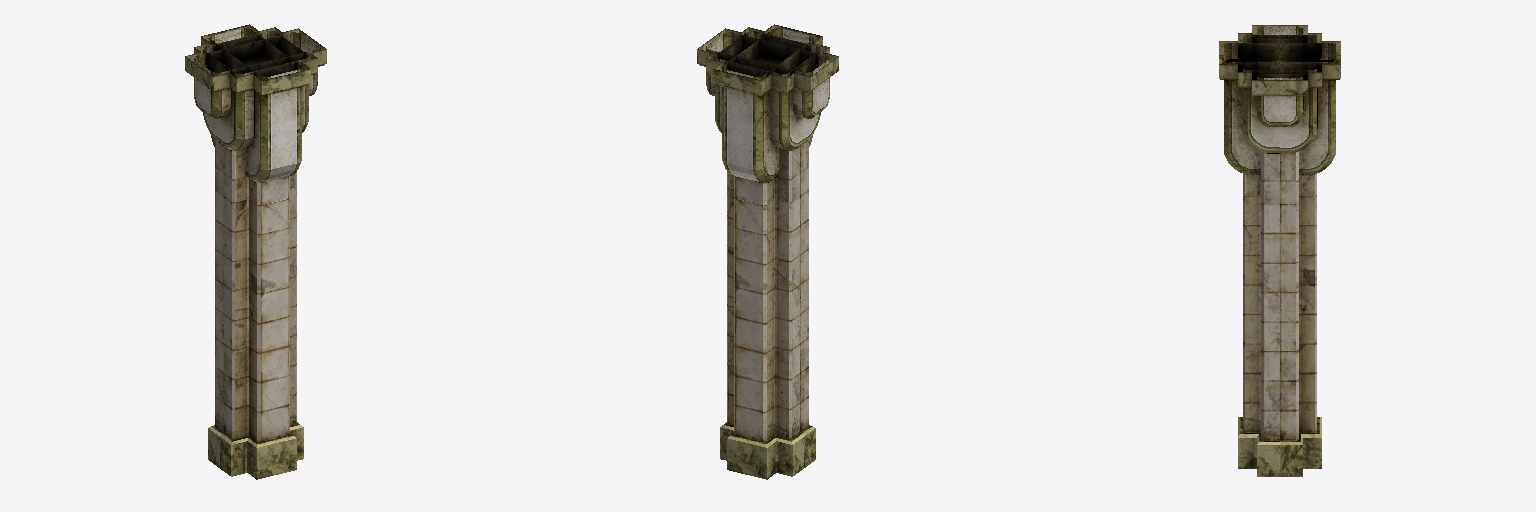
The picture shows the model from 3 angles: view 1: azimuth 30°, elevation 25°; view 2: azimuth 150°, elevation 25°; view 3: azimuth 270°, elevation 25°; orthographic projection.
Parts seen in each view (by area): view 1: Med_Pillar_Full_ALT; view 2: Med_Pillar_Full_ALT; view 3: Med_Pillar_Full_ALT.
Part boxes in pixels (x1,y1,x2,y2): Med_Pillar_Full_ALT: (185, 24, 326, 479); Med_Pillar_Full_ALT: (697, 24, 838, 479); Med_Pillar_Full_ALT: (1219, 25, 1340, 476).
Bounding box in the file's own units: 112 × 384 × 104.
1 materials, 1 textured.